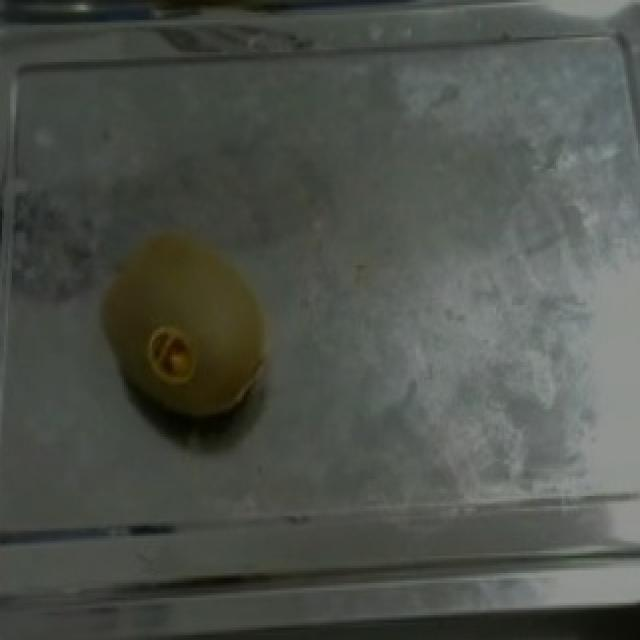Fruit: (82, 218, 280, 434)
